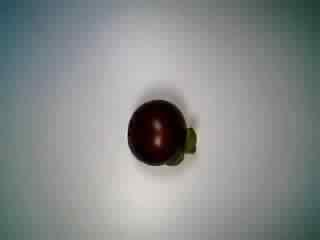mangosteen: (120, 92, 197, 167)
